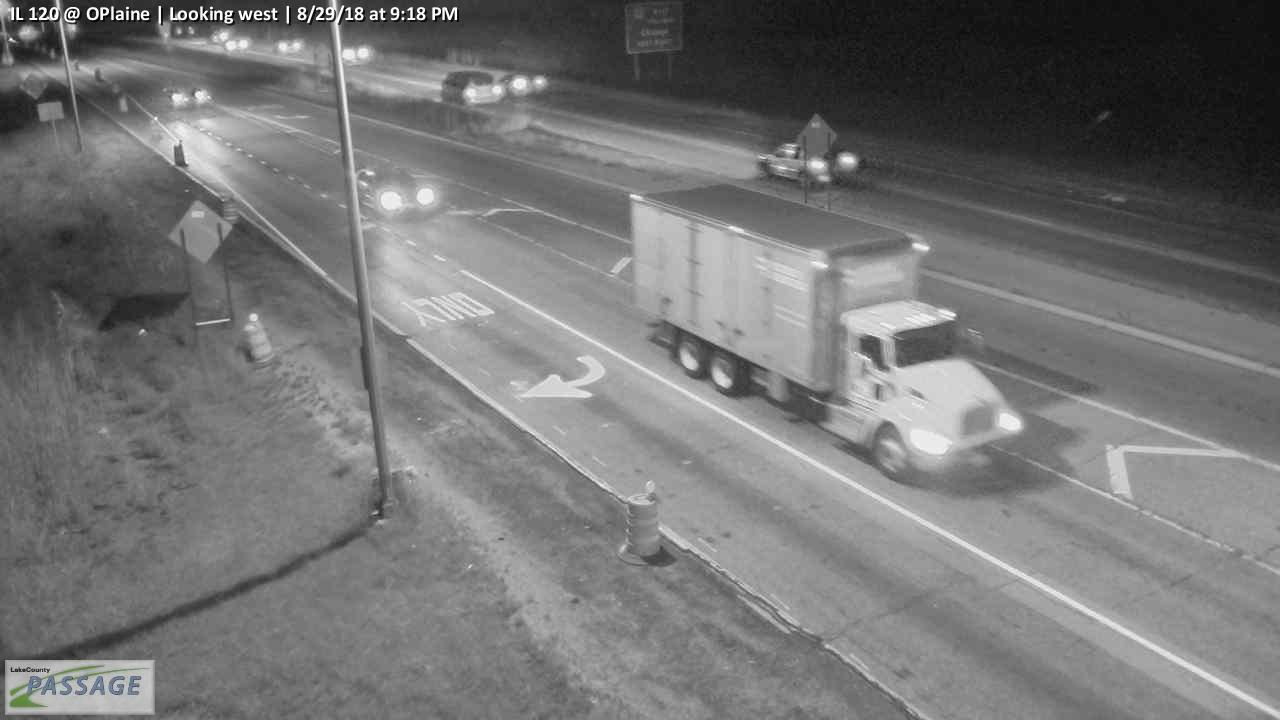SUV: (441, 70, 508, 107)
Sedan: (342, 163, 444, 218), (758, 141, 863, 191)
Truck: (626, 182, 1025, 485)
